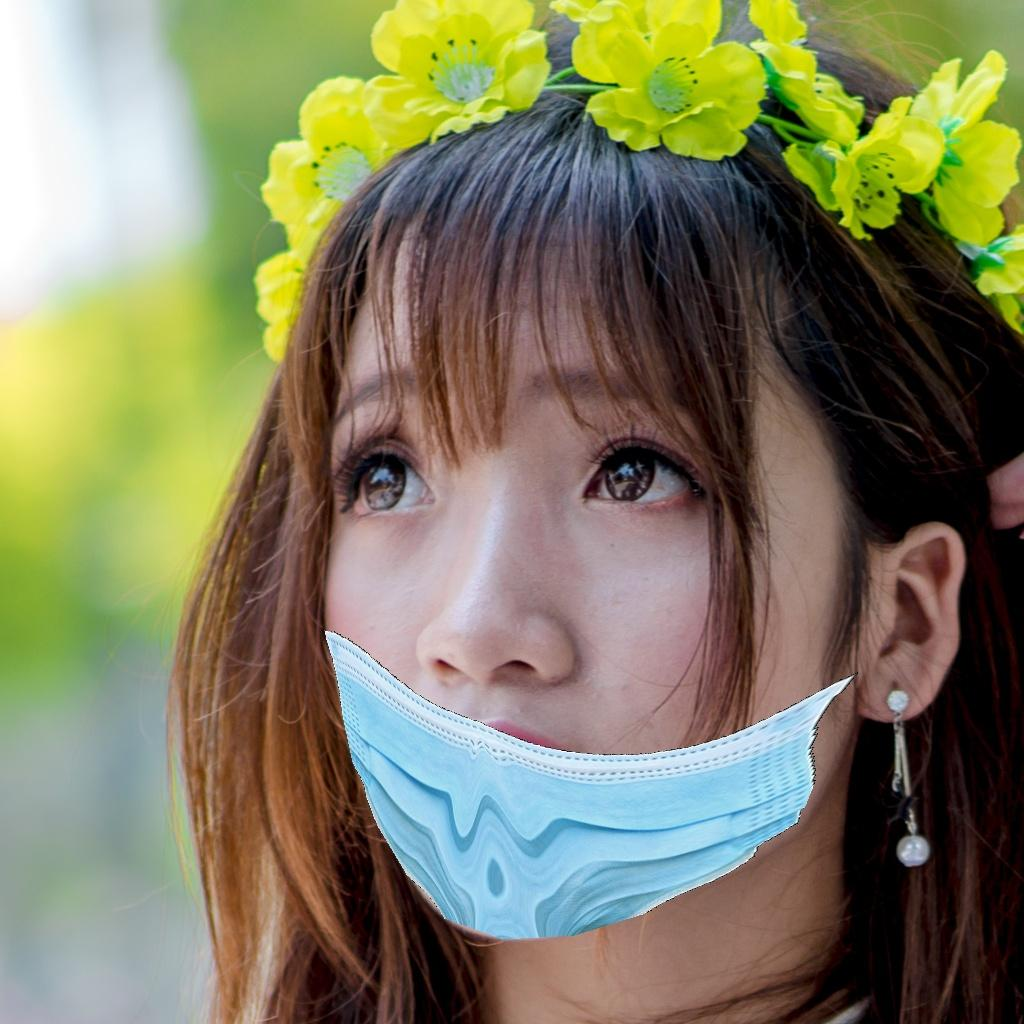Máscara Incorreta: (283, 352, 863, 928)
